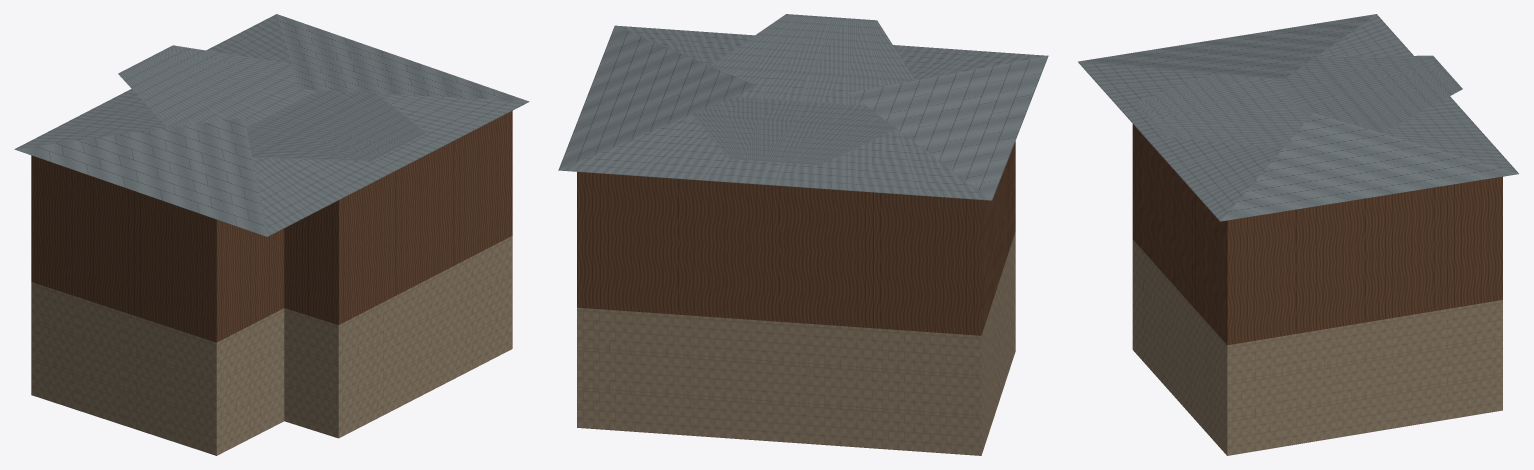
Rendered from bld_c22_31_384.gltf.
3 views of the same model, side by side, from view 1: azimuth 30°, elevation 25°; view 2: azimuth 150°, elevation 25°; view 3: azimuth 270°, elevation 25° (orthographic). The views are drawn at different scales.
Visible parts, largest first — view 1: bld_c22_31_384; view 2: bld_c22_31_384; view 3: bld_c22_31_384.
Part boxes in pixels (x1=…): bld_c22_31_384: x1=14, y1=14, x2=529, y2=455; bld_c22_31_384: x1=558, y1=14, x2=1048, y2=455; bld_c22_31_384: x1=1078, y1=14, x2=1518, y2=455.
Size of the model in its own units: 20.54 by 12.1 by 18.47.
Materials: 3 (3 with a texture image).
